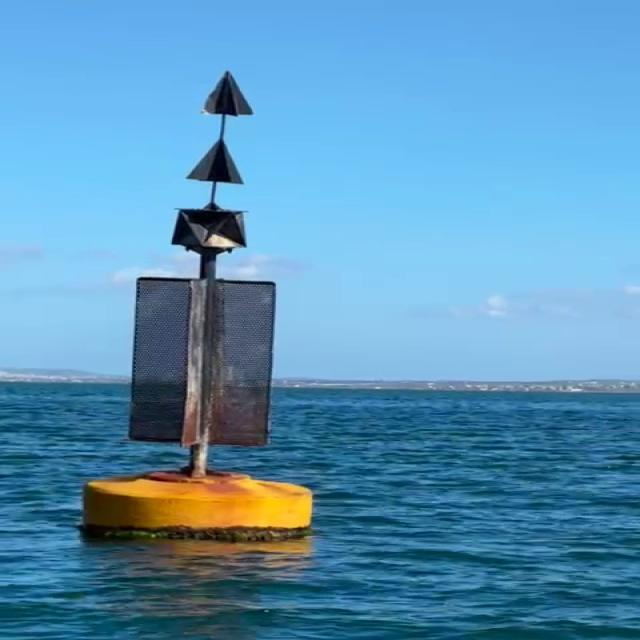marque: (78, 70, 310, 543)
